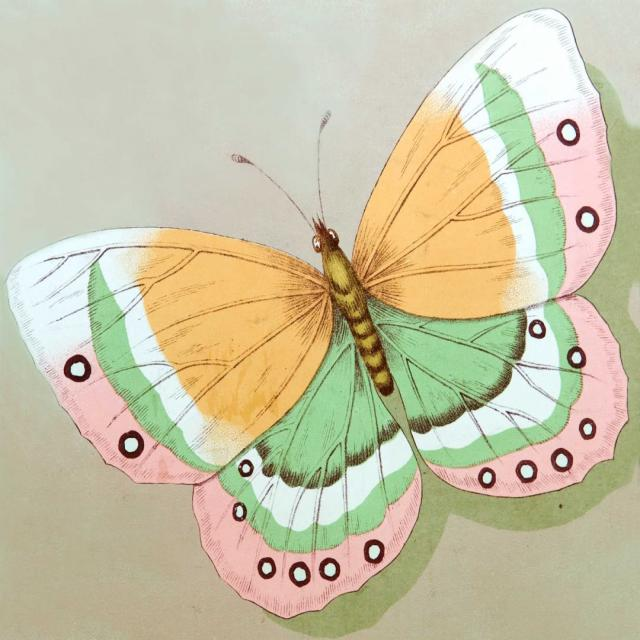butterfly: (94, 179, 591, 563)
